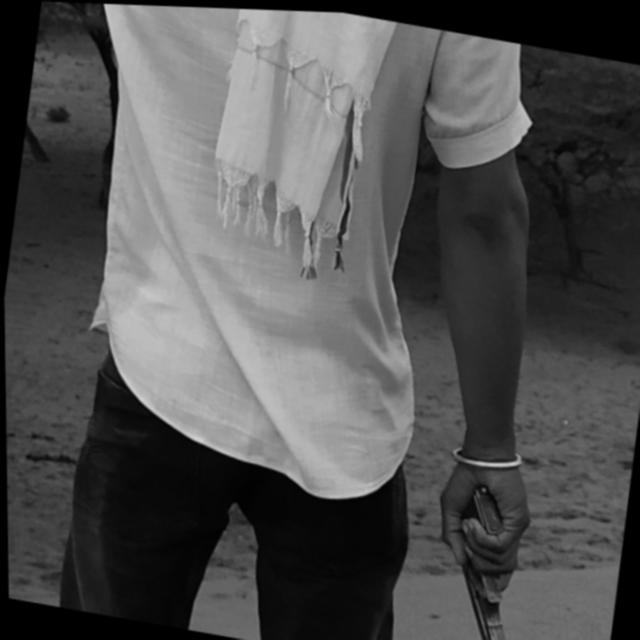weapon: (426, 469, 540, 640)
